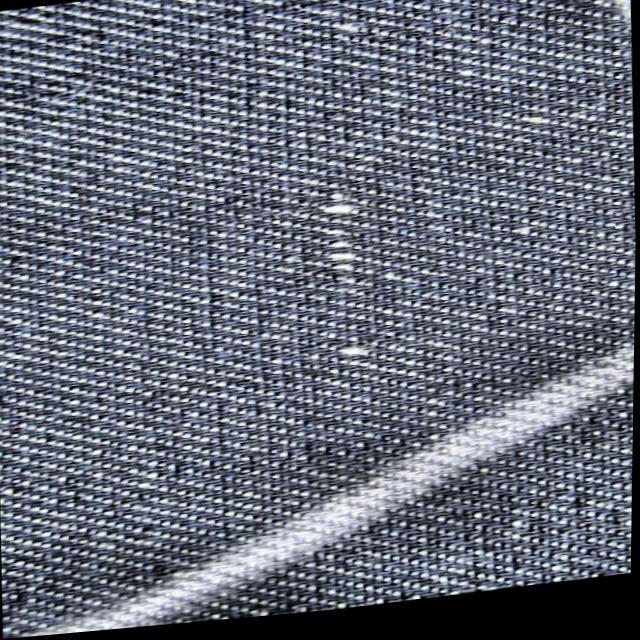Hole: (324, 196, 355, 284)
